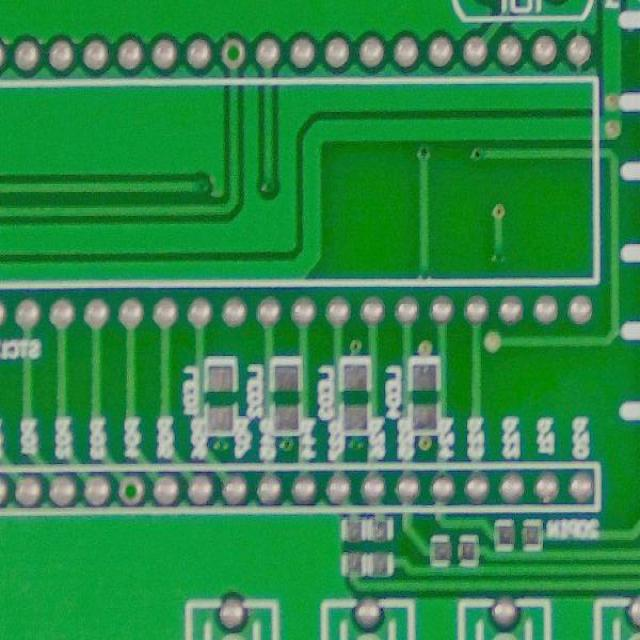missing hole: (217, 31, 250, 77), (116, 471, 150, 513)
